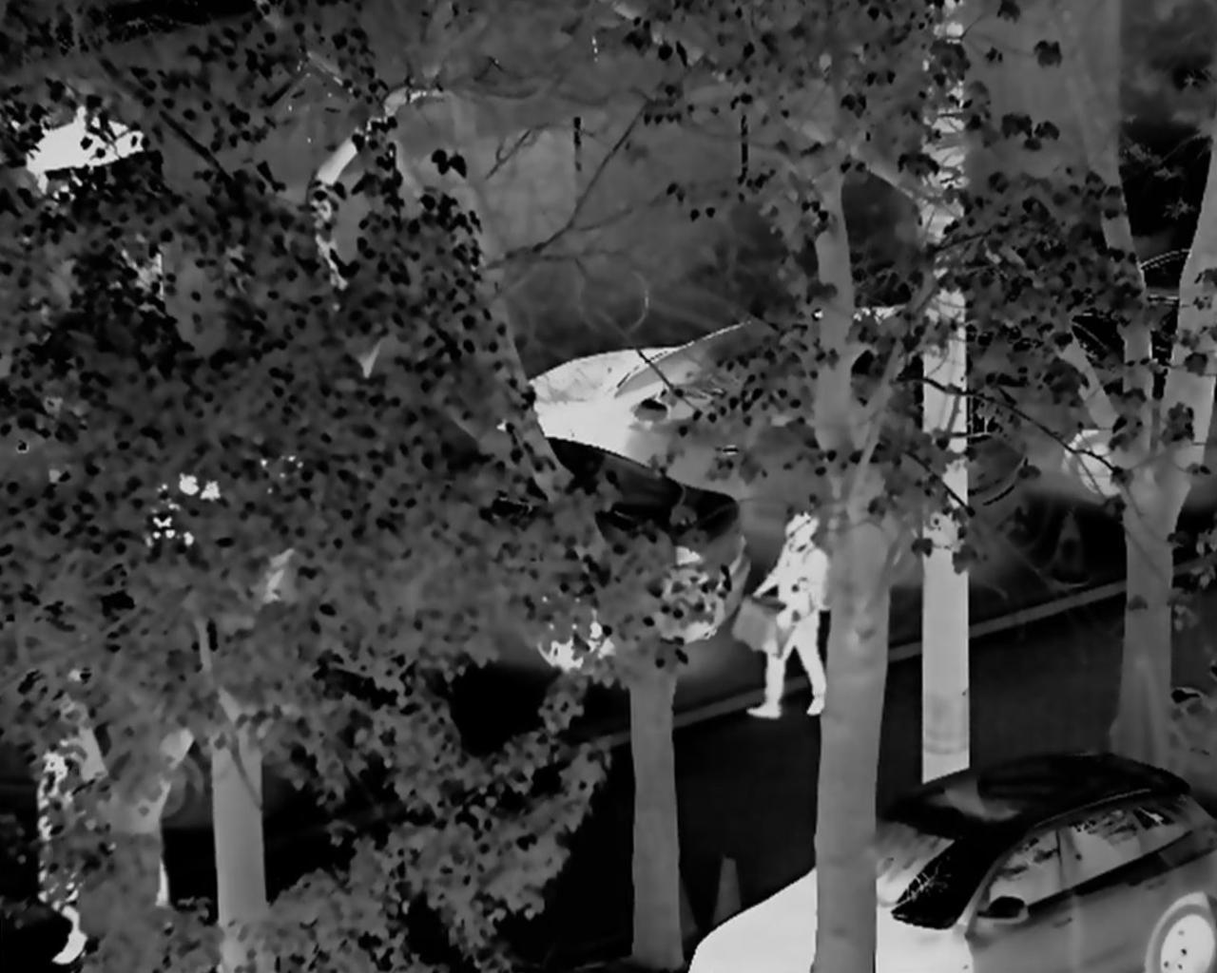person: (738, 506, 827, 721), (25, 751, 105, 969)
